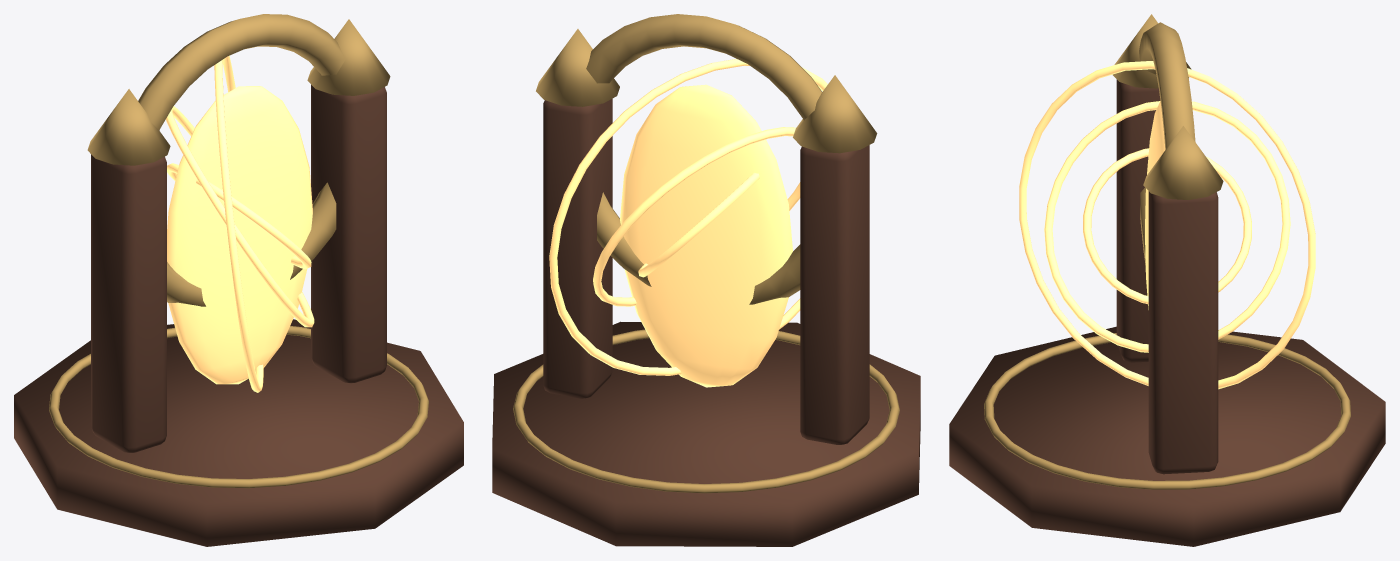
3 renders of one model, left to right at view 1: azimuth 30°, elevation 25°; view 2: azimuth 150°, elevation 25°; view 3: azimuth 270°, elevation 25°, orthographic. The views are drawn at different scales.
Parts seen in each view (by area): view 1: Hexagonal plinth, Portal heart, Gate pillar, Gate pillar.001, Arched lintel, Inlaid rim, Pillar crown, Resonance halo.002, Pillar crown.001, Resonance halo.001, Resonance halo; view 2: Hexagonal plinth, Portal heart, Gate pillar, Gate pillar.001, Arched lintel, Inlaid rim, Resonance halo.002, Pillar crown, Pillar crown.001, Resonance halo.001, Resonance halo; view 3: Hexagonal plinth, Gate pillar.001, Gate pillar, Resonance halo.002, Inlaid rim, Resonance halo.001, Arched lintel, Pillar crown.001, Resonance halo, Pillar crown, Portal heart.
Part boxes in pixels (x1,y1,x2,y2): Hexagonal plinth: [14, 319, 463, 546]; Portal heart: [167, 86, 312, 384]; Gate pillar: [91, 154, 166, 452]; Gate pillar.001: [311, 85, 386, 383]; Arched lintel: [138, 14, 345, 306]; Inlaid rim: [49, 326, 428, 488]; Pillar crown: [87, 89, 170, 165]; Resonance halo.002: [214, 55, 263, 392]; Pillar crown.001: [307, 19, 390, 95]; Resonance halo.001: [166, 106, 314, 327]; Resonance halo: [167, 163, 311, 269]; Hexagonal plinth: [492, 321, 920, 546]; Portal heart: [620, 84, 792, 387]; Gate pillar: [800, 145, 869, 444]; Gate pillar.001: [543, 98, 612, 398]; Arched lintel: [586, 14, 821, 304]; Inlaid rim: [513, 329, 899, 493]; Resonance halo.002: [549, 59, 827, 375]; Pillar crown: [793, 75, 877, 153]; Pillar crown.001: [536, 29, 619, 106]; Resonance halo.001: [593, 127, 800, 306]; Resonance halo: [638, 172, 759, 277]; Hexagonal plinth: [949, 326, 1385, 546]; Gate pillar.001: [1148, 191, 1218, 474]; Gate pillar: [1116, 79, 1160, 362]; Resonance halo.002: [1019, 61, 1315, 389]; Inlaid rim: [984, 333, 1350, 489]; Resonance halo.001: [1044, 101, 1290, 352]; Arched lintel: [1139, 22, 1195, 264]; Pillar crown.001: [1143, 126, 1223, 199]; Resonance halo: [1083, 148, 1251, 304]; Pillar crown: [1113, 14, 1191, 88]; Portal heart: [1145, 101, 1165, 309].
Bounding box in the file's own units: 1.51 × 1.6 × 1.51.
